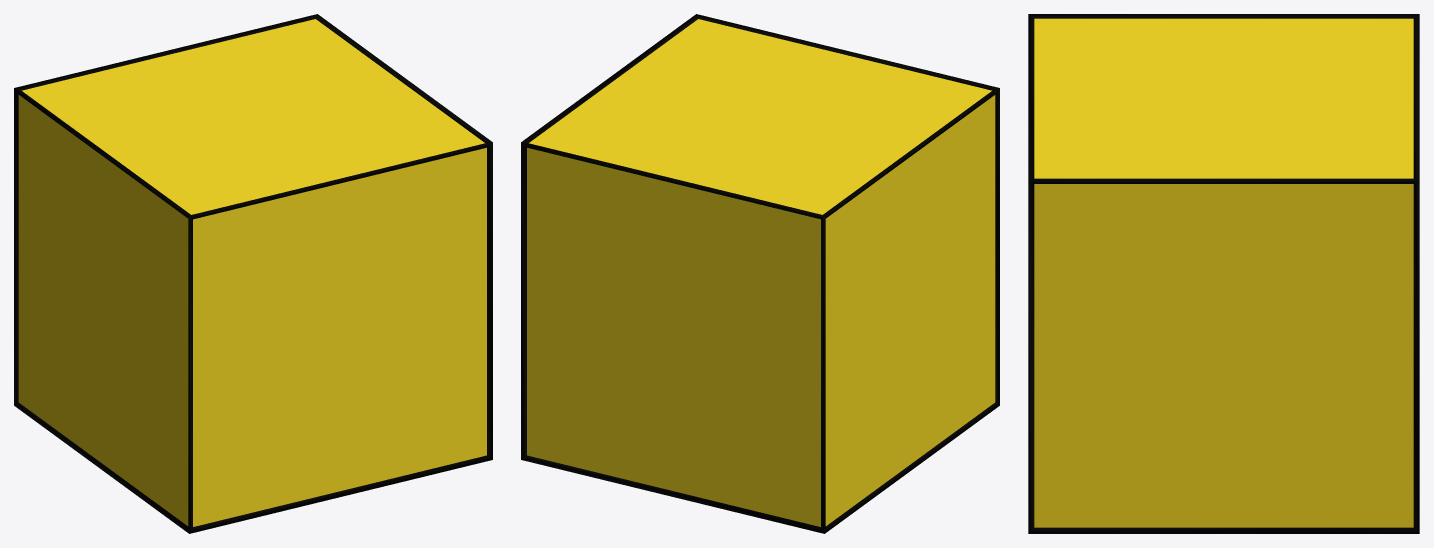
Rendered from cube_yellow.obj.
The picture shows the model from 3 angles, left to right: view 1: azimuth 30°, elevation 25°; view 2: azimuth 150°, elevation 25°; view 3: azimuth 270°, elevation 25°; orthographic projection. The views are drawn at different scales.
Visible parts, largest first — view 1: Cube_yellow, Cube_green; view 2: Cube_yellow, Cube_green; view 3: Cube_yellow, Cube_green.
Boxes of the visible parts, box(x1,y1,x2,y2) form: Cube_yellow: box(18, 19, 486, 526); Cube_green: box(14, 14, 492, 533); Cube_yellow: box(527, 19, 995, 526); Cube_green: box(521, 14, 999, 533); Cube_yellow: box(1034, 18, 1413, 527); Cube_green: box(1028, 14, 1419, 533).
Size of the model in its own units: 0.0506 by 0.0506 by 0.0506.
